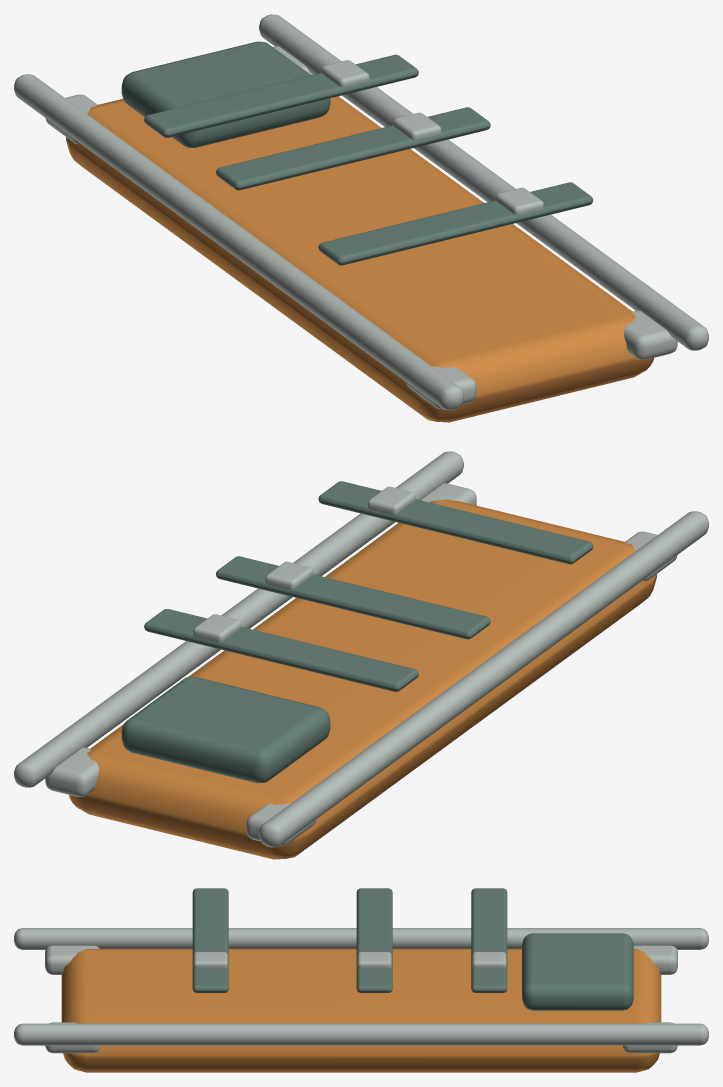
Rendered from echo-extraction-harness.glb.
3 renders of one model, top to bottom at view 1: azimuth 30°, elevation 25°; view 2: azimuth 150°, elevation 25°; view 3: azimuth 270°, elevation 25°, orthographic. The views are drawn at different scales.
Parts seen in each view (by area): view 1: Molded stretcher bed, Rescue stretcher tubing, Woven harness straps; view 2: Molded stretcher bed, Woven harness straps, Rescue stretcher tubing; view 3: Molded stretcher bed, Rescue stretcher tubing, Woven harness straps.
Part boxes in pixels (left/top/right/bottom): Molded stretcher bed: left=66, top=96, right=653, bottom=422; Rescue stretcher tubing: left=14, top=14, right=708, bottom=410; Woven harness straps: left=121, top=41, right=593, bottom=265; Molded stretcher bed: left=69, top=499, right=656, bottom=859; Woven harness straps: left=121, top=481, right=593, bottom=783; Rescue stretcher tubing: left=14, top=451, right=708, bottom=847; Molded stretcher bed: left=61, top=948, right=661, bottom=1072; Rescue stretcher tubing: left=14, top=928, right=708, bottom=1053; Woven harness straps: left=192, top=888, right=633, bottom=1010.
Bounding box in the file's own units: 0.755 × 0.3455 × 2.12.
